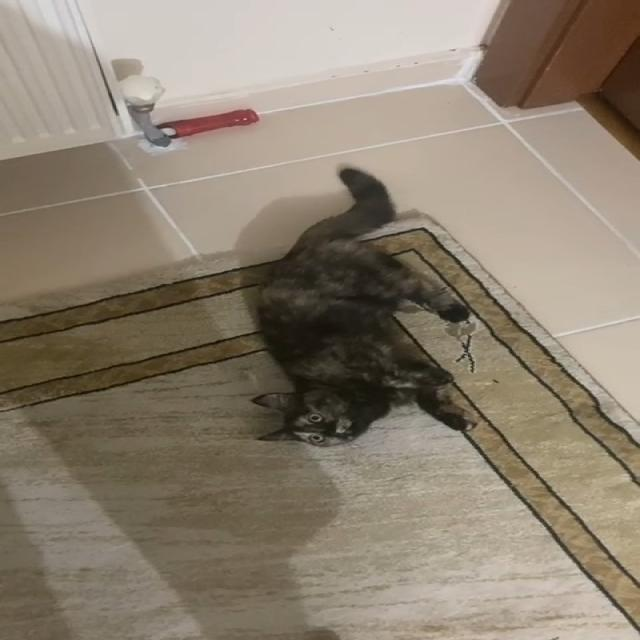authorized: (250, 165, 478, 447)
